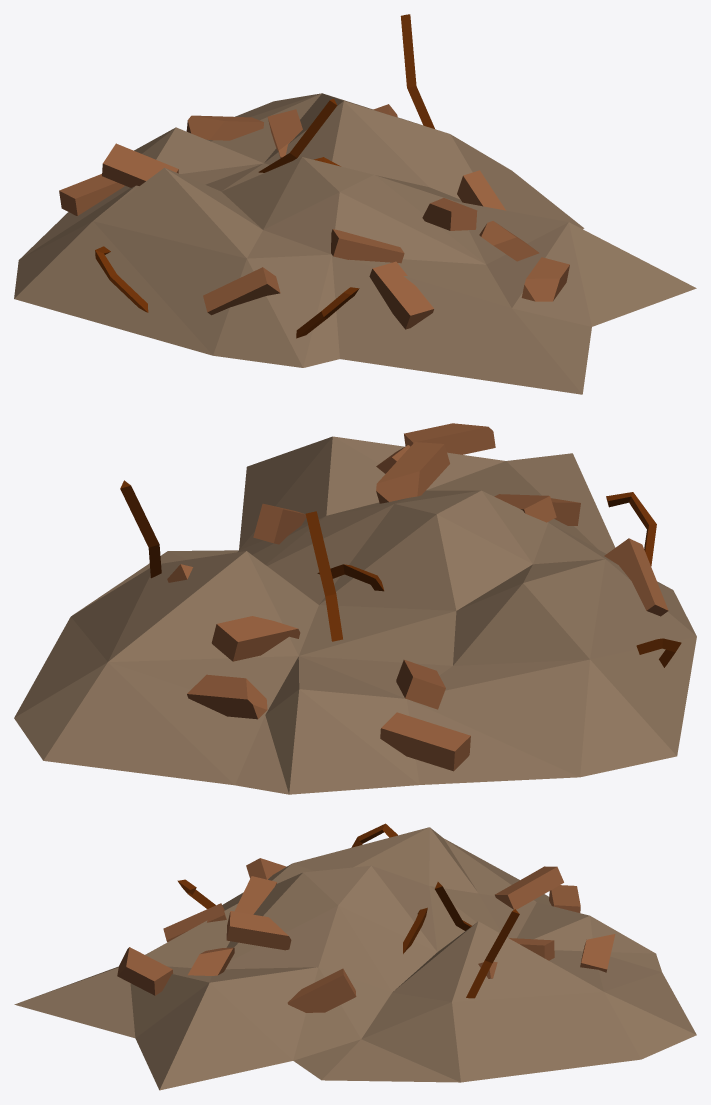
Rendered from LP_PostApoc_DebrisPileB.fbx.
The picture shows the model from 3 angles, top to bottom: view 1: azimuth 30°, elevation 25°; view 2: azimuth 150°, elevation 25°; view 3: azimuth 270°, elevation 25°; orthographic projection. The views are drawn at different scales.
Visible parts, largest first — view 1: DebrisPileB; view 2: DebrisPileB; view 3: DebrisPileB.
Part boxes in pixels (x1,y1,x2,y2): DebrisPileB: [14, 14, 696, 394]; DebrisPileB: [14, 423, 696, 794]; DebrisPileB: [14, 823, 696, 1090].
Size of the model in its own units: 334 by 112 by 418.
